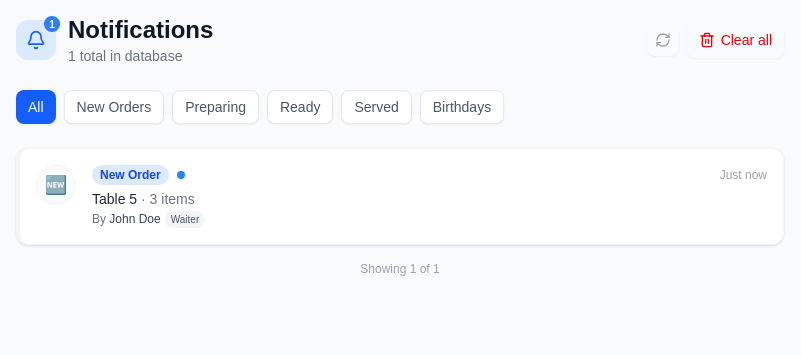
Test: NotificationsPage › shows an error when clear all fails
The image size is (801, 355).
Expected: the text "New Order" is shown, [92,165,169,185]
Click the button "Clear all".
click(735, 40)  # box [687,22,784,58]
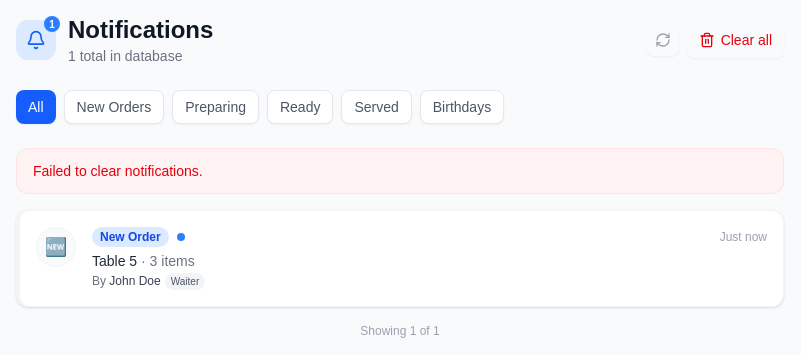
Expected: the text "Failed to clear notifications." is shown, [16,148,784,194]
